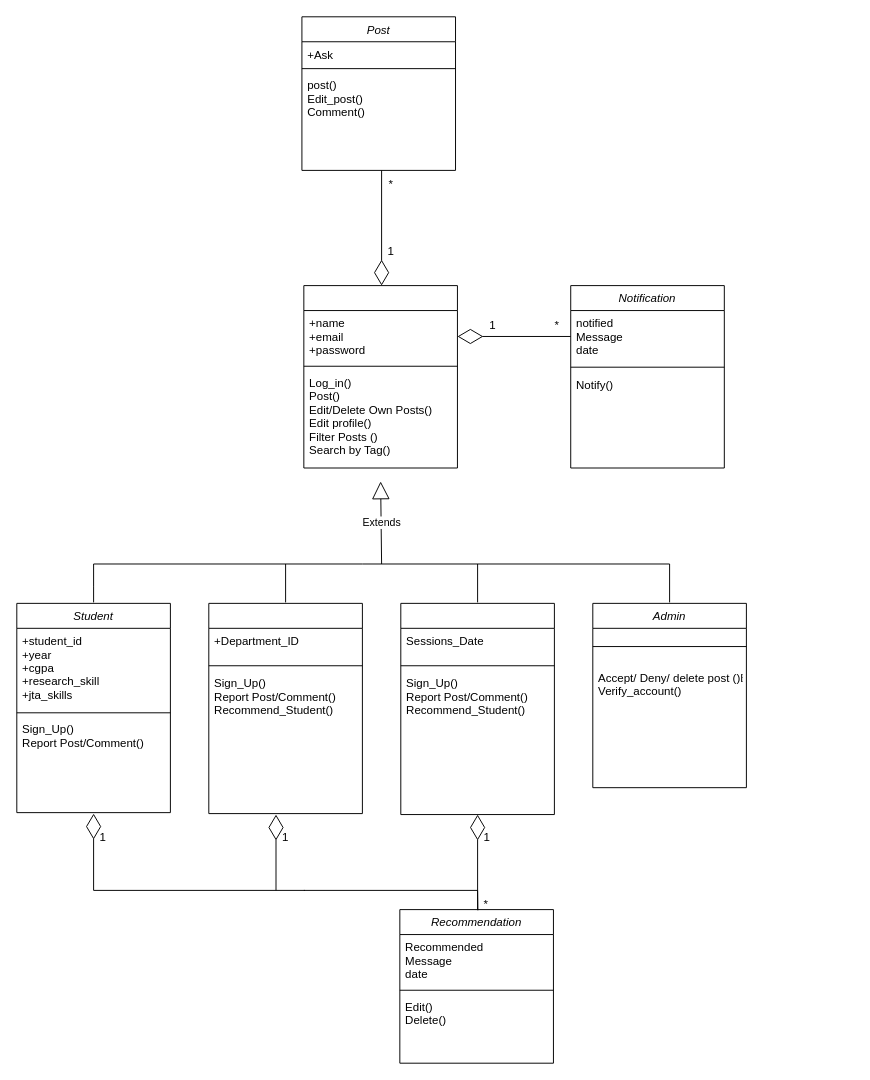
This 870x1080 diagram has some shape labels left out. The box of each missing label's shape, as (x1, y1, x2, y2) in pixels:
Club Representative: (400, 602, 554, 815)
Dr/TA: (208, 602, 362, 814)
User: (303, 285, 457, 468)
